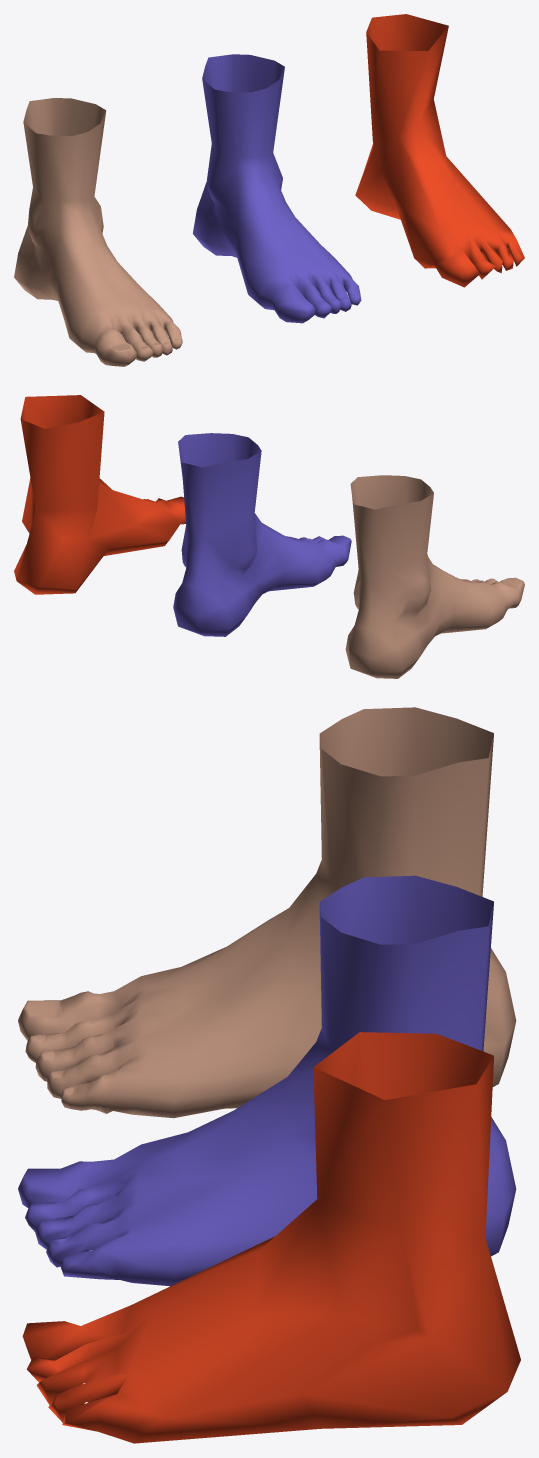
Rendered from foot-mesh-LOD.glb.
The picture shows the model from 3 angles, top to bottom: view 1: azimuth 30°, elevation 25°; view 2: azimuth 150°, elevation 25°; view 3: azimuth 270°, elevation 25°; orthographic projection. The views are drawn at different scales.
Parts seen in each view (by area): view 1: Cube;hires, Cube;medres, Cube;lowres; view 2: Cube;hires, Cube;medres, Cube;lowres; view 3: Cube;lowres, Cube;hires, Cube;medres.
Part boxes in pixels (x1,y1,x2,y2): Cube;hires: (14,98,182,366); Cube;medres: (192,54,361,323); Cube;lowres: (355,14,524,287); Cube;hires: (345,475,524,678); Cube;medres: (173,433,351,636); Cube;lowres: (14,395,185,594); Cube;lowres: (22,1032,520,1443); Cube;hires: (18,707,516,1118); Cube;medres: (18,875,516,1286).
Size of the model in its own units: 1.87 by 0.752 by 0.9676.
